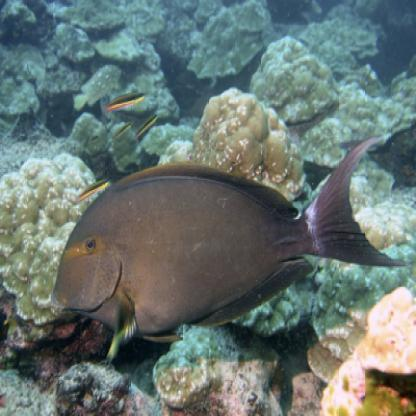surgeon: (49, 126, 396, 366)
